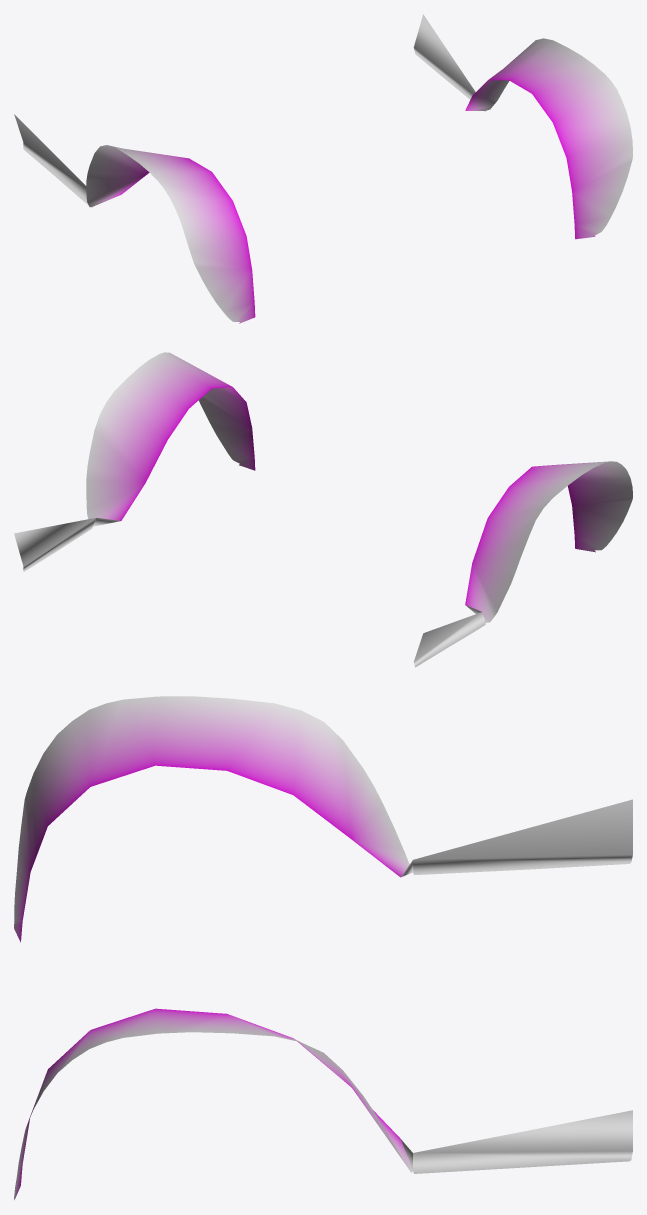
The model's file is Car_Buick_GrandNational_1987_FendersChassisR_SetC.fbx.
3 renders of one model, top to bottom at view 1: azimuth 30°, elevation 25°; view 2: azimuth 150°, elevation 25°; view 3: azimuth 270°, elevation 25°, orthographic. The views are drawn at different scales.
Parts seen in each view (by area): view 1: FendersChassisR 6; view 2: FendersChassisR 6; view 3: FendersChassisR 6.
Boxes of the visible parts, x1,y1,x2,y2 form: FendersChassisR 6: [14, 14, 632, 323]; FendersChassisR 6: [14, 352, 632, 667]; FendersChassisR 6: [14, 696, 632, 1199].
Size of the model in its own units: 1.81 by 0.4991 by 1.39.
